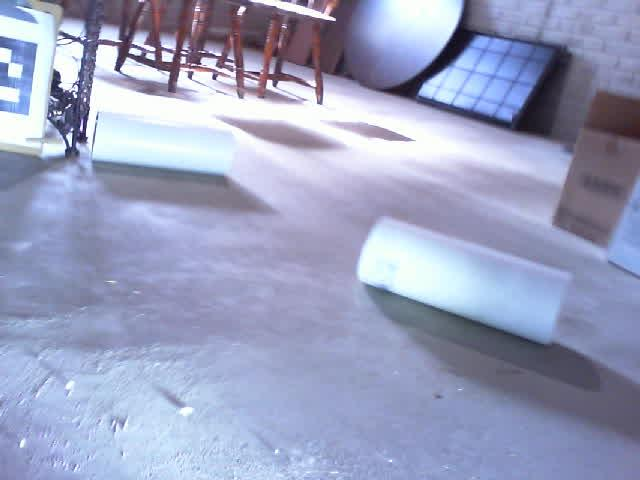coral: (359, 217, 571, 348), (92, 112, 235, 177)
